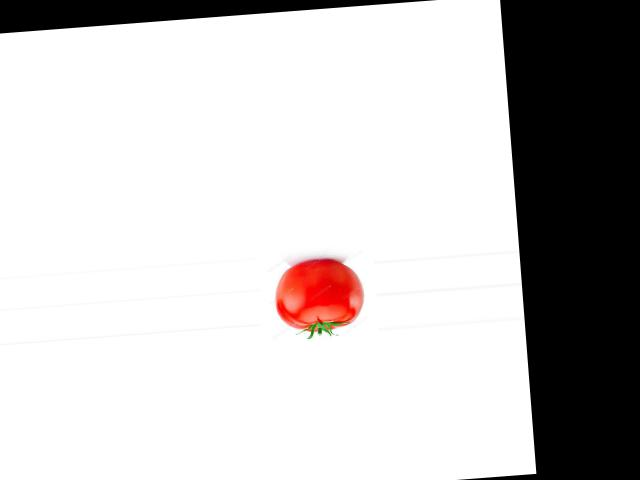tomato: (272, 258, 365, 334)
